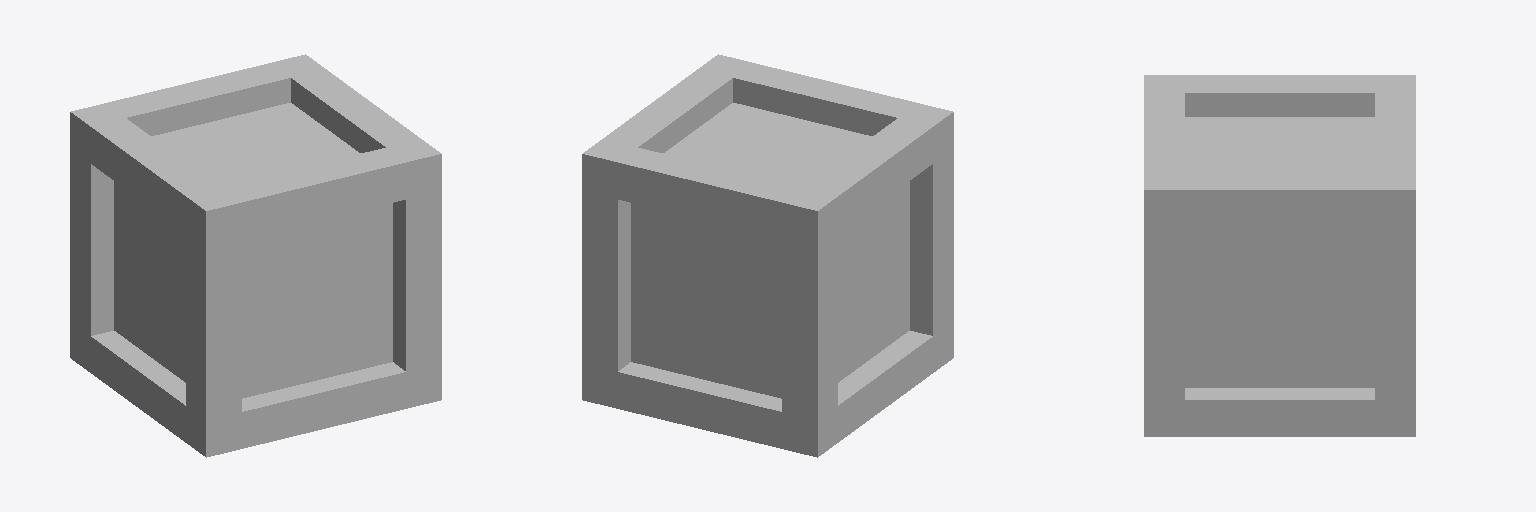
Rendered from crateWood01.obj.
The picture shows the model from 3 angles: view 1: azimuth 30°, elevation 25°; view 2: azimuth 150°, elevation 25°; view 3: azimuth 270°, elevation 25°; orthographic projection.
Visible parts, largest first — view 1: mesh01; view 2: mesh01; view 3: mesh01.
Part boxes in pixels (bbox=[...]): mesh01: bbox=[70, 54, 441, 457]; mesh01: bbox=[582, 54, 953, 457]; mesh01: bbox=[1144, 75, 1415, 436].
Bounding box in the file's own units: 1 × 1 × 1.